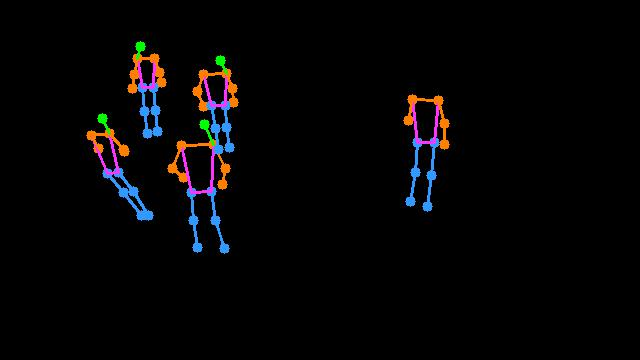normal: (118, 35, 259, 262)
